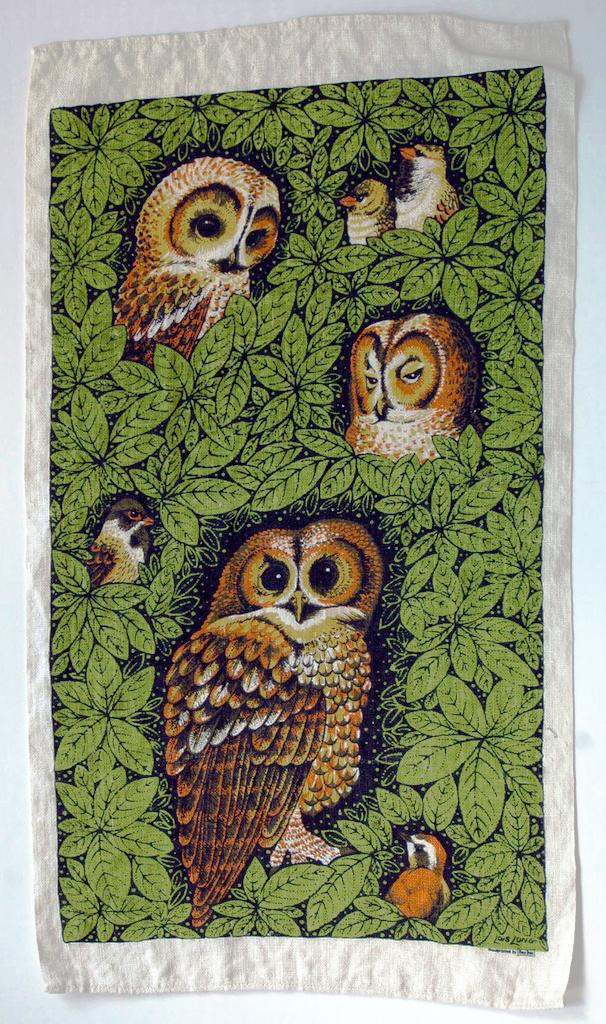Owl: (160, 514, 384, 935), (112, 152, 282, 382), (347, 308, 465, 466), (85, 491, 166, 593), (390, 827, 458, 927), (401, 138, 464, 238), (332, 178, 400, 250)
